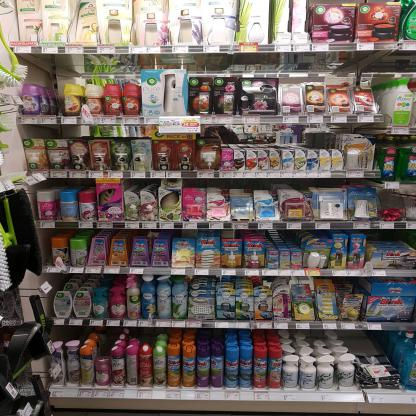Void: (42, 58, 63, 116), (28, 123, 88, 141), (358, 331, 390, 357), (370, 231, 411, 250)
